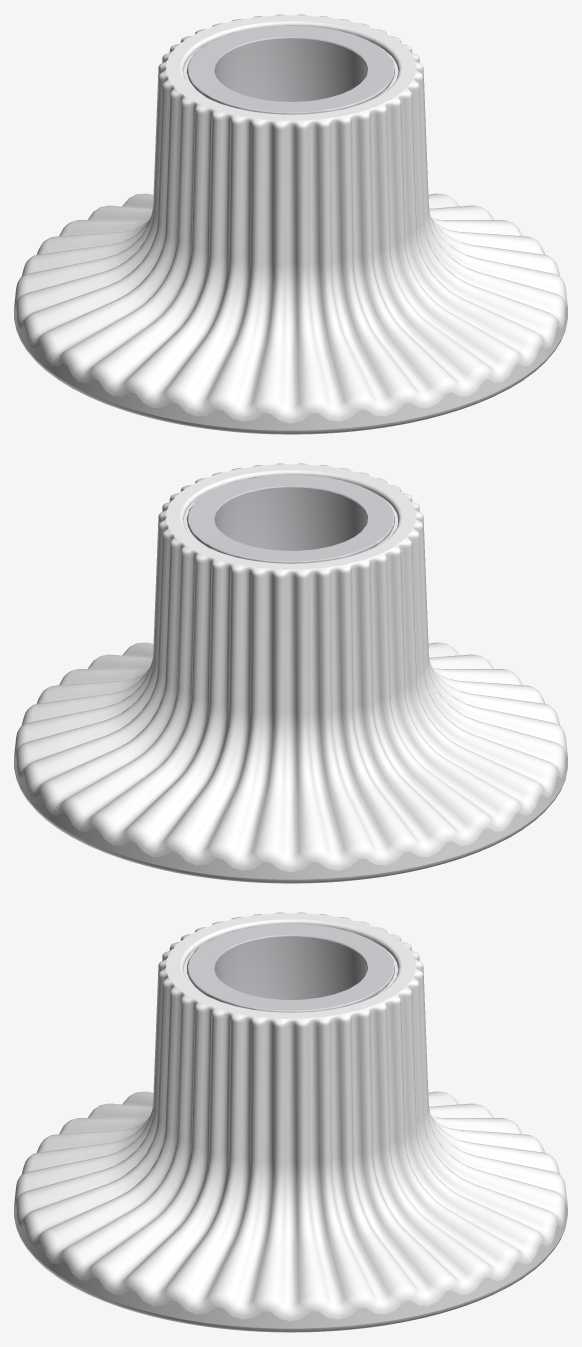
File: finsmak_swiecznik_80630774.glb
3 renders of one model, top to bottom at view 1: azimuth 30°, elevation 25°; view 2: azimuth 150°, elevation 25°; view 3: azimuth 270°, elevation 25°, orthographic.
Visible parts, largest first — view 1: finsmak_swiecznik_80630774; view 2: finsmak_swiecznik_80630774; view 3: finsmak_swiecznik_80630774.
Part boxes in pixels (bbox=[...]): finsmak_swiecznik_80630774: bbox=[14, 14, 567, 434]; finsmak_swiecznik_80630774: bbox=[14, 463, 567, 883]; finsmak_swiecznik_80630774: bbox=[14, 912, 567, 1332].
Bounding box in the file's own units: 0.0798 × 0.04 × 0.0798.
2 materials, 2 textured.
